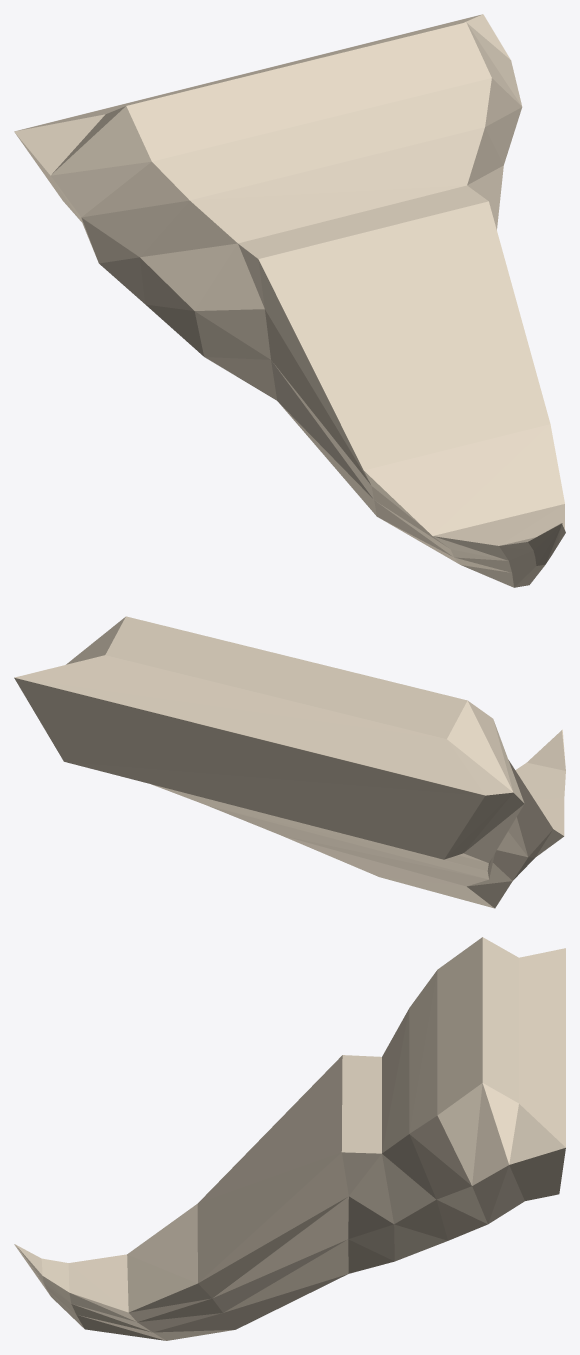
The model's file is SkullJaw.fbx.
3 views of the same model, one above another, from view 1: azimuth 30°, elevation 25°; view 2: azimuth 150°, elevation 25°; view 3: azimuth 270°, elevation 25° (orthographic). The views are drawn at different scales.
Parts seen in each view (by area): view 1: CraneoInf; view 2: CraneoInf; view 3: CraneoInf.
Boxes of the visible parts, x1,y1,x2,y2 form: CraneoInf: [14, 14, 565, 587]; CraneoInf: [14, 616, 565, 908]; CraneoInf: [14, 937, 565, 1340].
Bounding box in the file's own units: 6.62 × 4.96 × 7.64.
